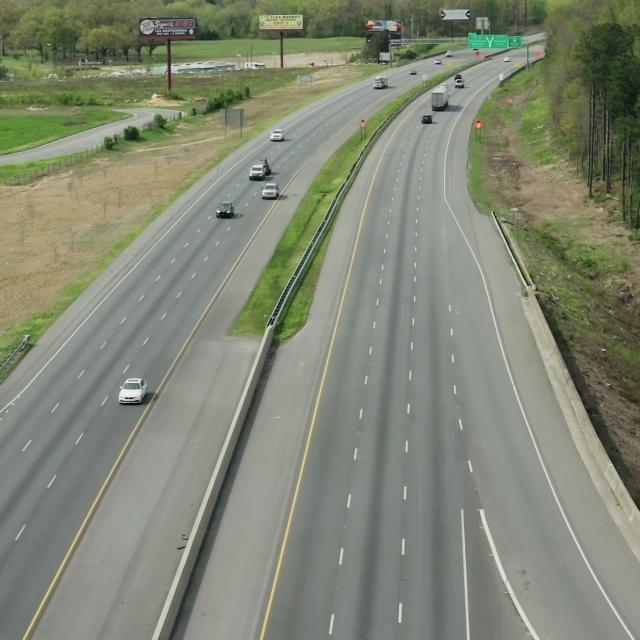Car: (114, 376, 150, 410), (245, 158, 275, 181), (212, 200, 236, 222), (258, 181, 282, 199)
